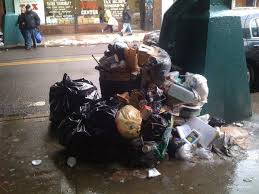garbage: (48, 75, 212, 157), (92, 44, 172, 168)
